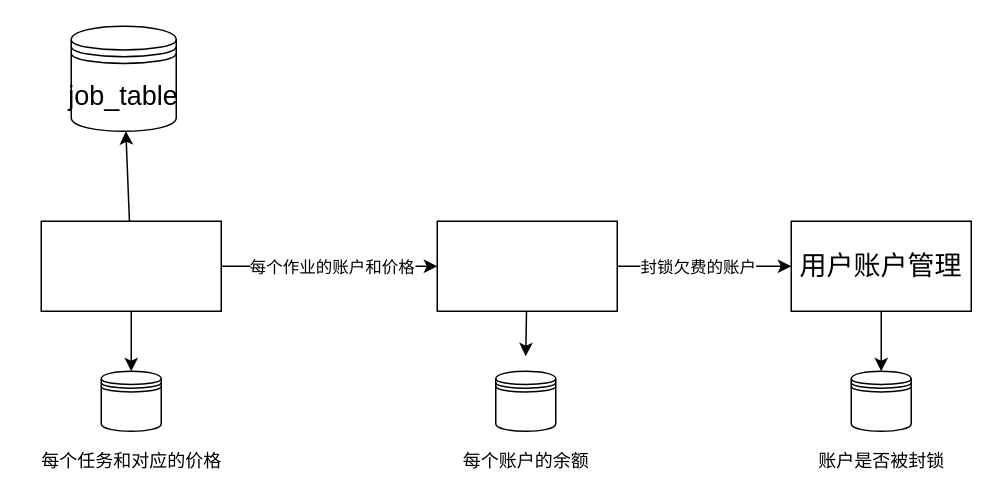
The diagram is 998 pixels wide and 503 high, and some of its shapes have lost their labels. The shapes that lost their labels are listed below. From the top down, each one's centre as x and y in pixels, then its label:
point 130,265: 任务信息系统
point 526,265: 收费系统
